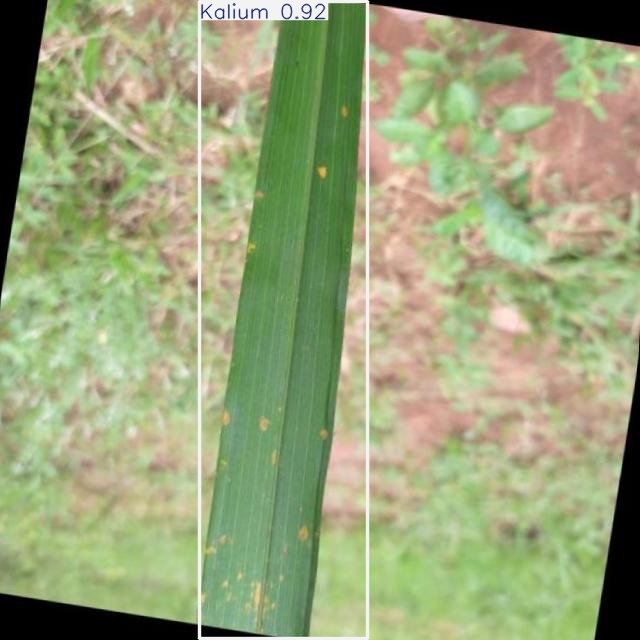Kalium: (199, 1, 368, 639)
